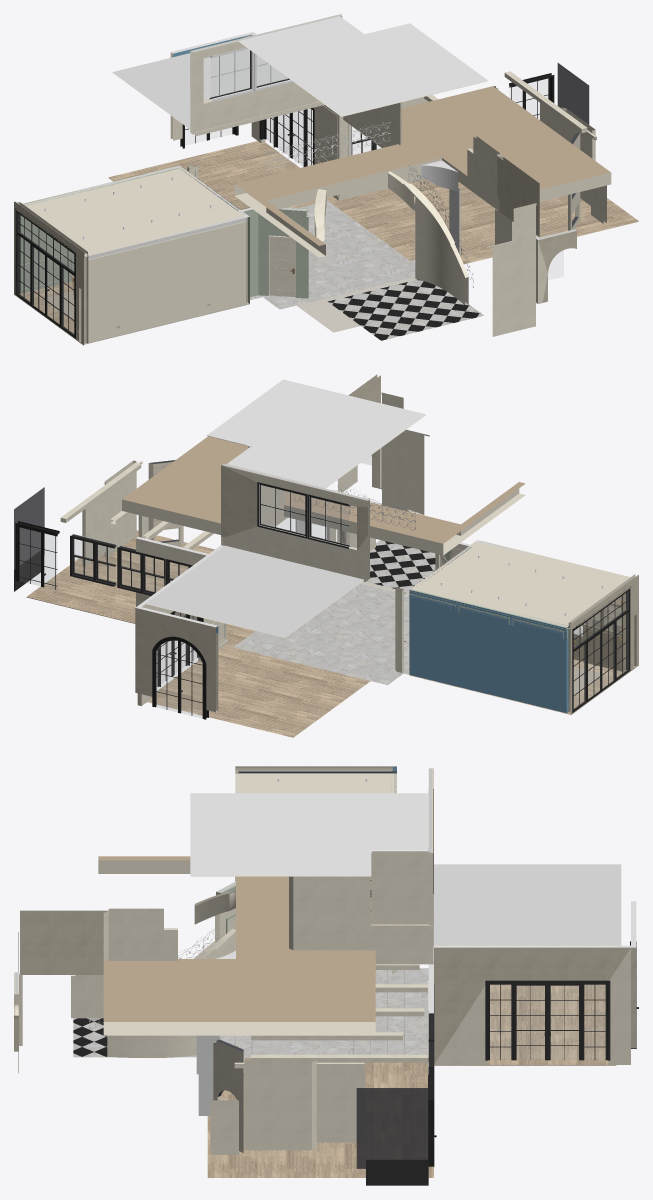
Rendered from dining-room-24676a3a3277.glb.
The picture shows the model from 3 angles, top to bottom: view 1: azimuth 30°, elevation 25°; view 2: azimuth 150°, elevation 25°; view 3: azimuth 270°, elevation 25°; orthographic projection. The views are drawn at different scales.
Parts seen in each view (by area): view 1: dining-room-look-2575515a05775d9e, dining-room-look-9d91b47435c6fb33, dining-room-d999b7e09afcf2f4, dining-room-look-3b0077416469e01b, dining-room-2575515a05775d9e, dining-room-look-ba376bd68a22f7f3, dining-room-look-4a969f5cc1ae3dfe, dining-room-look-c4ac463b6a960119, dining-room-08d72923bcfd3529, dining-room-look-245f595ae2832e16, dining-room-look-d5a4a1b5d3594c04, dining-room-look-8c6a7019fd0063e7 (+36 smaller); view 2: dining-room-look-3b0077416469e01b, dining-room-b19b106fc304963c, dining-room-look-9d91b47435c6fb33, dining-room-look-2575515a05775d9e, dining-room-look-4a969f5cc1ae3dfe, dining-room-2575515a05775d9e, dining-room-look-ba376bd68a22f7f3, dining-room-look-245f595ae2832e16, dining-room-08d72923bcfd3529, dining-room-look-969b861f9850351e, dining-room-look-b57b1dfcc6ff1bca, dining-room-look-d5a4a1b5d3594c04 (+23 smaller); view 3: dining-room-look-2575515a05775d9e, dining-room-look-3b0077416469e01b, dining-room-look-9d91b47435c6fb33, dining-room-look-4a969f5cc1ae3dfe, dining-room-look-e706aa16b4547c37, dining-room-look-3d5fbc3a2a5f9c05, dining-room-look-5b6bbac285e58726, dining-room-look-69af8f587252f9fa, dining-room-look-ba376bd68a22f7f3, dining-room-look-62353aa10fc57f23, dining-room-look-cbd4bf73d9724a66, dining-room-look-32b959c9aa406288 (+18 smaller).
Part boxes in pixels (x1=…): dining-room-look-2575515a05775d9e: x1=234, y1=86, x2=611, y2=257; dining-room-look-9d91b47435c6fb33: x1=238, y1=16, x2=487, y2=116; dining-room-d999b7e09afcf2f4: x1=88, y1=216, x2=246, y2=342; dining-room-look-3b0077416469e01b: x1=108, y1=141, x2=638, y2=264; dining-room-2575515a05775d9e: x1=15, y1=166, x2=249, y2=256; dining-room-look-ba376bd68a22f7f3: x1=250, y1=200, x2=415, y2=309; dining-room-look-4a969f5cc1ae3dfe: x1=112, y1=49, x2=288, y2=129; dining-room-look-c4ac463b6a960119: x1=328, y1=279, x2=483, y2=340; dining-room-08d72923bcfd3529: x1=15, y1=208, x2=75, y2=338; dining-room-look-245f595ae2832e16: x1=190, y1=14, x2=342, y2=134; dining-room-look-d5a4a1b5d3594c04: x1=487, y1=235, x2=535, y2=336; dining-room-look-8c6a7019fd0063e7: x1=388, y1=171, x2=468, y2=305; dining-room-look-3b0077416469e01b: x1=26, y1=530, x2=370, y2=737; dining-room-b19b106fc304963c: x1=409, y1=590, x2=567, y2=713; dining-room-look-9d91b47435c6fb33: x1=206, y1=379, x2=425, y2=488; dining-room-look-2575515a05775d9e: x1=122, y1=436, x2=525, y2=555; dining-room-look-4a969f5cc1ae3dfe: x1=146, y1=545, x2=364, y2=637; dining-room-2575515a05775d9e: x1=410, y1=541, x2=637, y2=628; dining-room-look-ba376bd68a22f7f3: x1=233, y1=584, x2=409, y2=684; dining-room-look-245f595ae2832e16: x1=221, y1=464, x2=369, y2=580; dining-room-08d72923bcfd3529: x1=572, y1=586, x2=630, y2=713; dining-room-look-969b861f9850351e: x1=135, y1=606, x2=218, y2=712; dining-room-look-b57b1dfcc6ff1bca: x1=152, y1=636, x2=208, y2=719; dining-room-look-d5a4a1b5d3594c04: x1=382, y1=429, x2=429, y2=514; dining-room-look-2575515a05775d9e: x1=98, y1=856, x2=375, y2=1035; dining-room-look-3b0077416469e01b: x1=207, y1=984, x2=616, y2=1177; dining-room-look-9d91b47435c6fb33: x1=190, y1=793, x2=428, y2=876; dining-room-look-4a969f5cc1ae3dfe: x1=433, y1=864, x2=621, y2=945; dining-room-look-e706aa16b4547c37: x1=434, y1=945, x2=630, y2=1064; dining-room-look-3d5fbc3a2a5f9c05: x1=485, y1=980, x2=610, y2=1060; dining-room-look-5b6bbac285e58726: x1=244, y1=1060, x2=316, y2=1150; dining-room-look-69af8f587252f9fa: x1=289, y1=876, x2=370, y2=950; dining-room-look-ba376bd68a22f7f3: x1=219, y1=968, x2=428, y2=1072; dining-room-look-62353aa10fc57f23: x1=20, y1=910, x2=108, y2=974; dining-room-look-cbd4bf73d9724a66: x1=356, y1=1088, x2=428, y2=1168; dining-room-look-32b959c9aa406288: x1=371, y1=851, x2=428, y2=923.
Bounding box in the file's own units: 20 × 6.36 × 16.84.
Materials: 53 (17 with a texture image).
